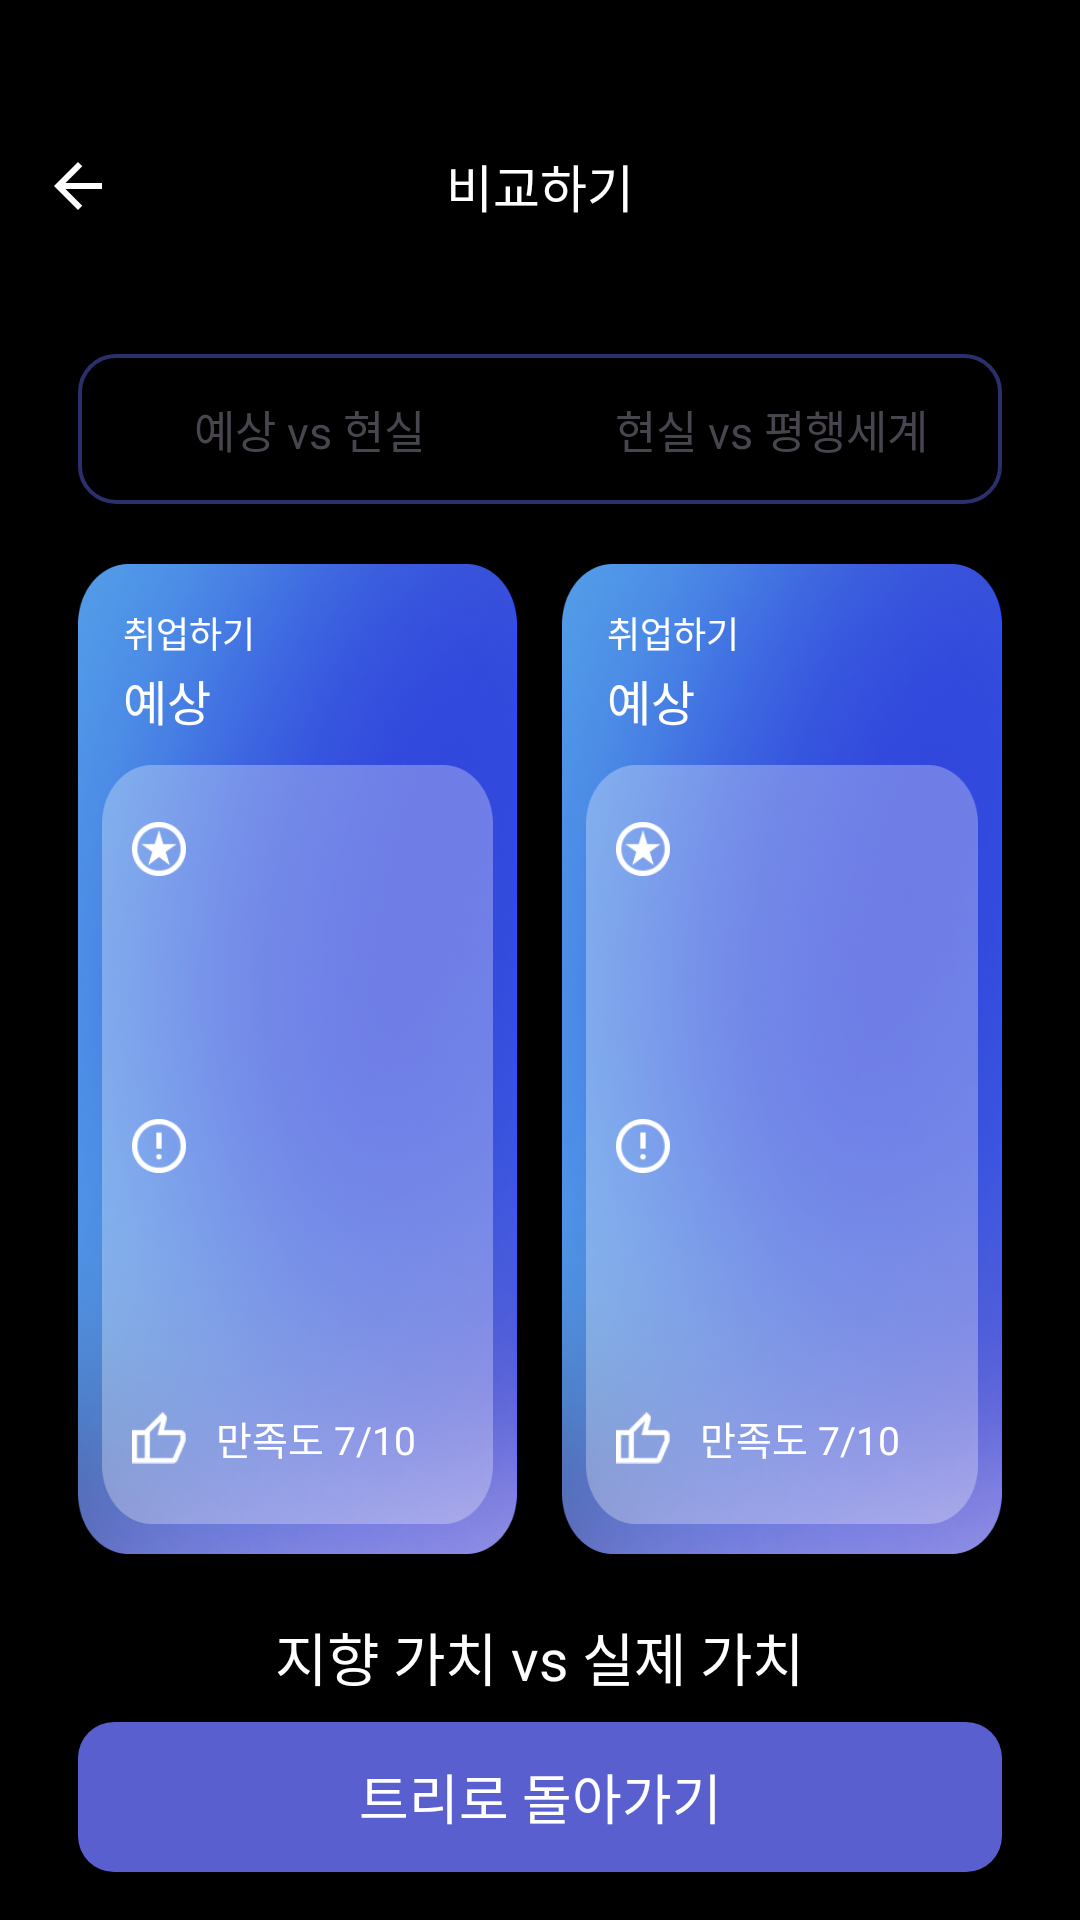

Icon bounding boxes for this 1080px×1920px phone screenshot, format rect(x1, y1, x2, y2):
걱정하는 점: rect(132, 1119, 186, 1173), rect(616, 1119, 670, 1173)
기대하는 점: rect(132, 822, 186, 876), rect(616, 822, 670, 876)
뒤로 가기: rect(54, 162, 102, 210)
